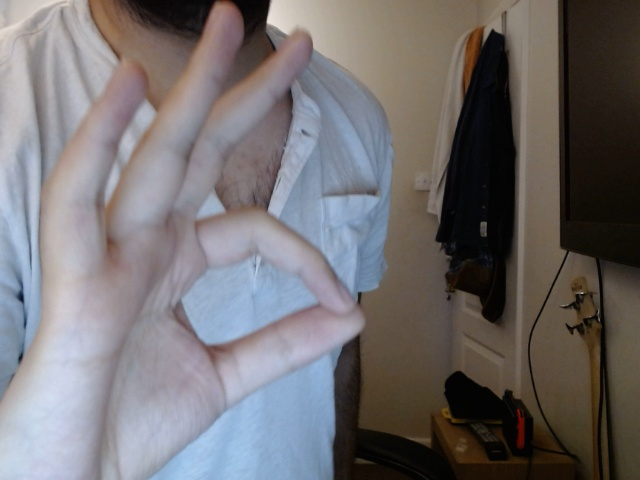Okay: (1, 1, 376, 480)
